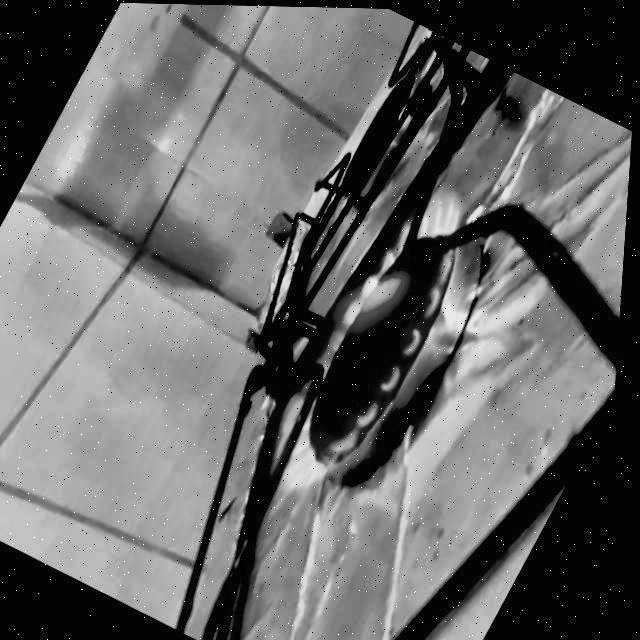Fire: (241, 155, 506, 518)
